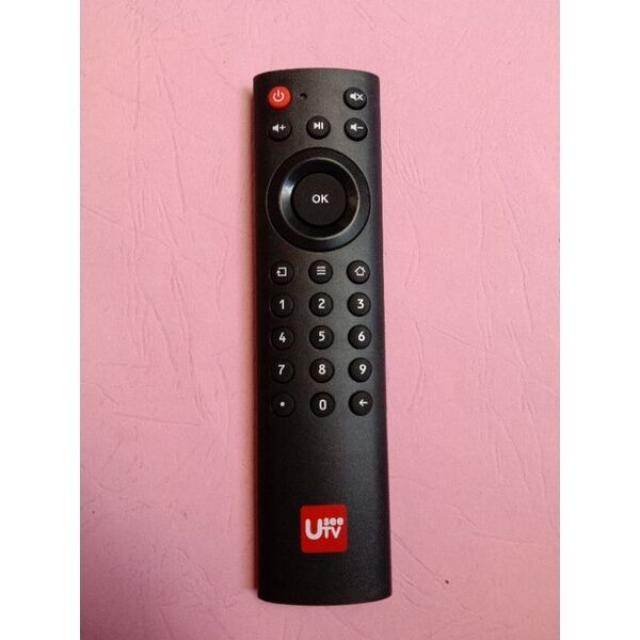remote: (247, 71, 393, 603)
